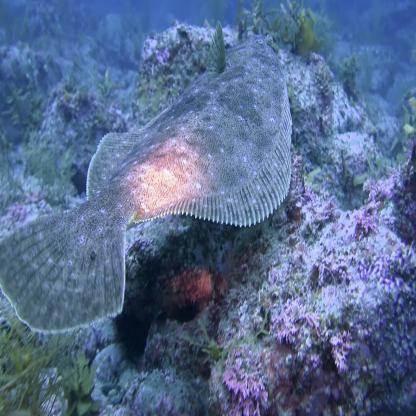flounder: (0, 35, 307, 339)
